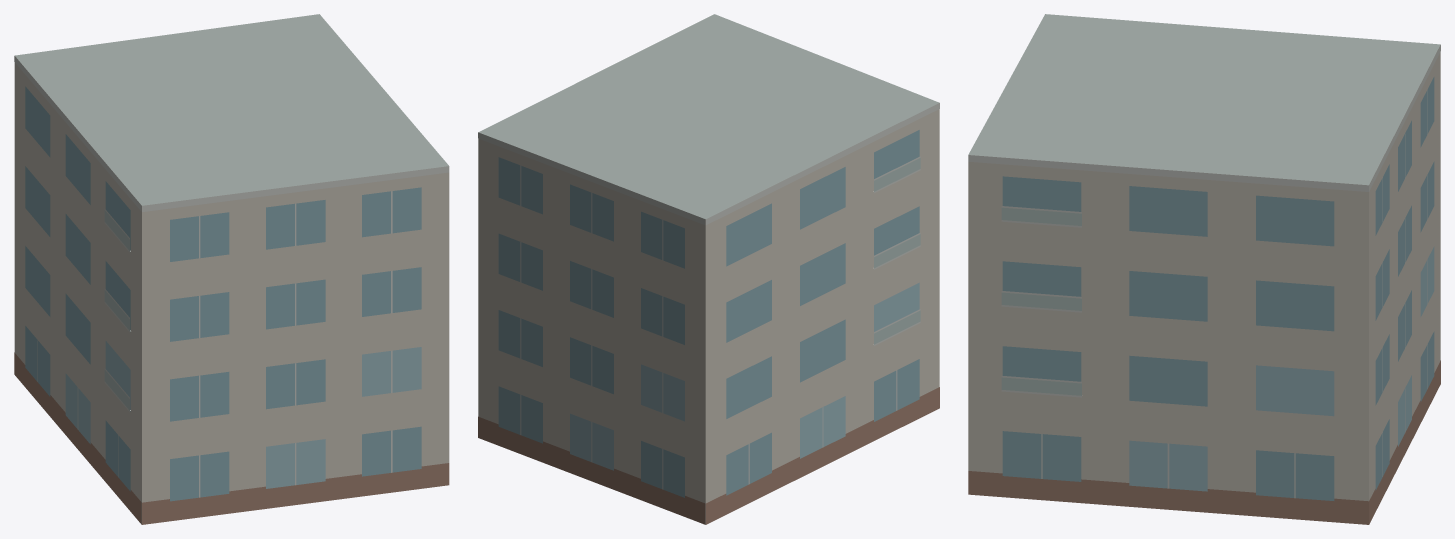
File: residential-26360db6-aa14-4996-b6a1-0039b6a31942.glb
3 views of the same model, side by side, from view 1: azimuth 30°, elevation 25°; view 2: azimuth 150°, elevation 25°; view 3: azimuth 270°, elevation 25° (orthographic). The views are drawn at different scales.
Visible parts, largest first — view 1: residential-26360db6-aa14-4996-b6a1-0039b6a31942.tmp; view 2: residential-26360db6-aa14-4996-b6a1-0039b6a31942.tmp; view 3: residential-26360db6-aa14-4996-b6a1-0039b6a31942.tmp.
Boxes of the visible parts, x1,y1,x2,y2 form: residential-26360db6-aa14-4996-b6a1-0039b6a31942.tmp: [14, 14, 449, 524]; residential-26360db6-aa14-4996-b6a1-0039b6a31942.tmp: [478, 14, 939, 524]; residential-26360db6-aa14-4996-b6a1-0039b6a31942.tmp: [968, 14, 1440, 524].
Size of the model in its own units: 13.21 by 12.2 by 15.4.
